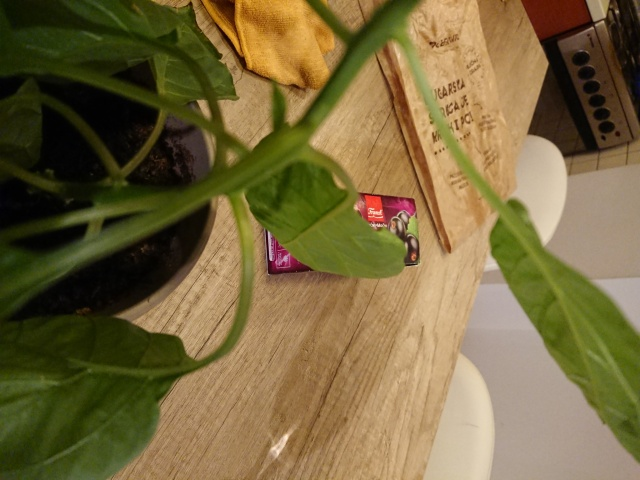Franck Black Currant Tea 60g: (261, 187, 423, 278)
